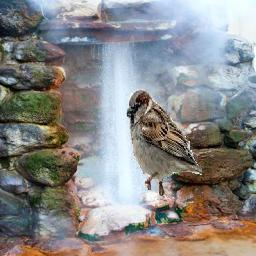Sparrow: (126, 90, 203, 199)
